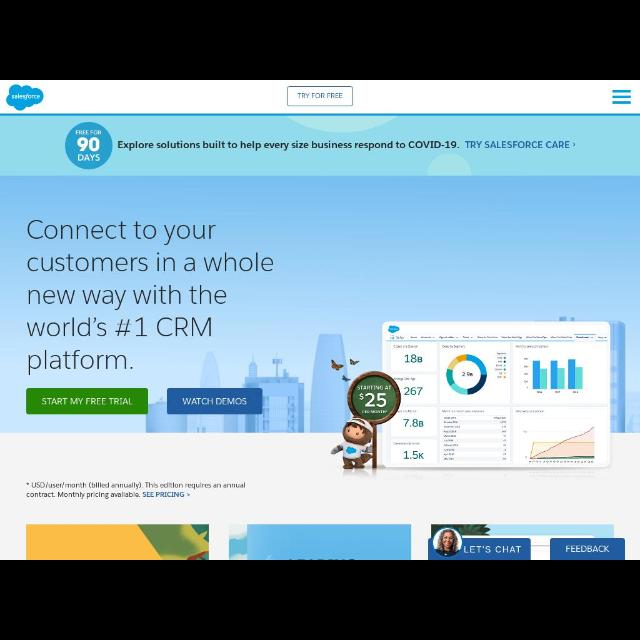icon: (612, 90, 632, 104)
image: (328, 320, 614, 480), (428, 525, 626, 559), (27, 524, 210, 560), (228, 524, 410, 560), (66, 122, 114, 170), (6, 85, 44, 111)
panel: (1, 114, 640, 176)
text: (27, 220, 274, 376), (118, 141, 576, 151), (26, 481, 246, 499), (43, 398, 134, 406), (182, 398, 246, 404), (297, 93, 343, 99)
textbutton: (27, 389, 149, 415), (167, 388, 263, 414), (286, 86, 354, 106)
toolbar: (1, 81, 640, 113)
